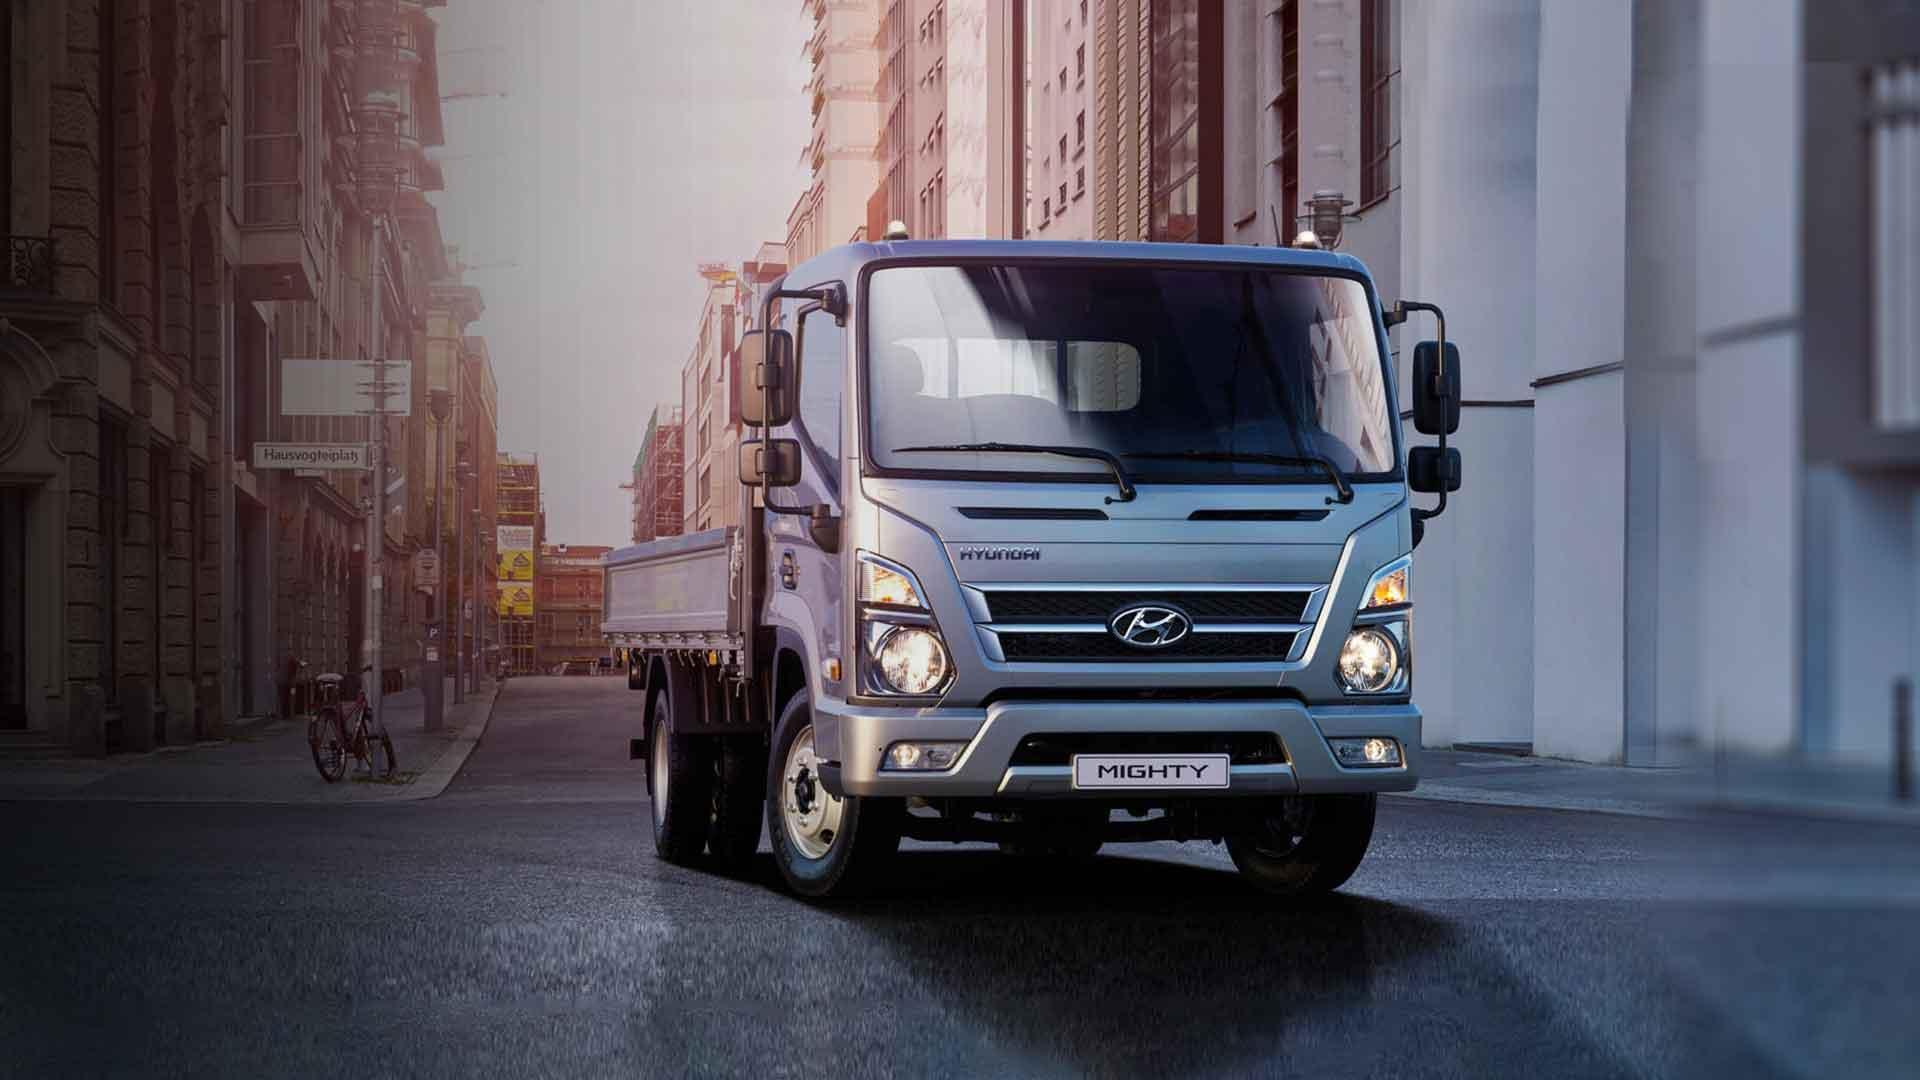truck: (596, 240, 1462, 910)
